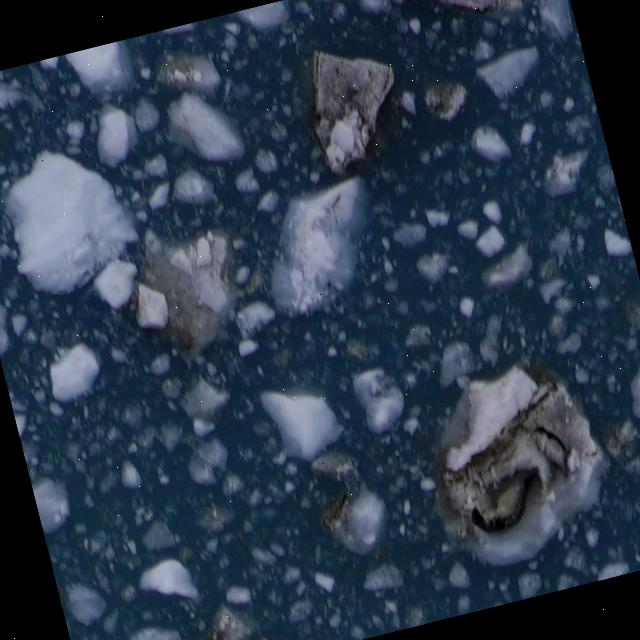seal: (459, 462, 553, 540), (523, 416, 577, 490)
